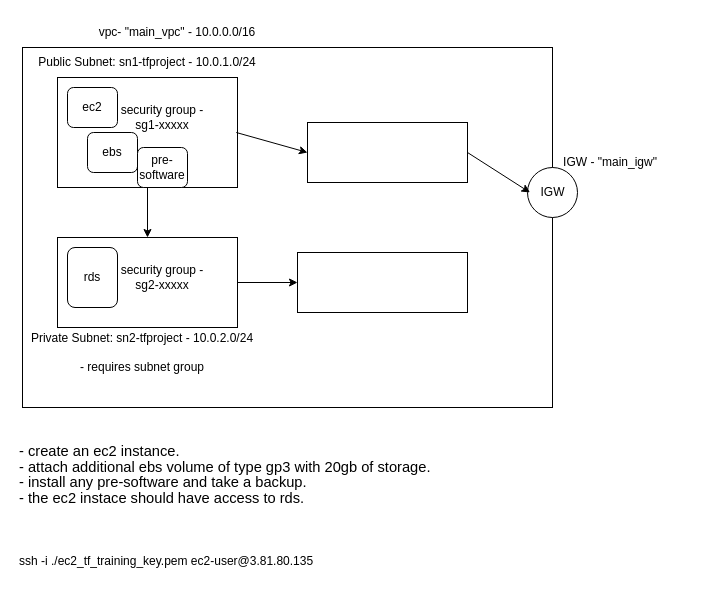
Image size: 707x604. Some labels were removed from this diagram. The shapes that lost their labels are listed below. From the top down, each one's centre as x and y in pixels, then its label:
At [387,152]: "Route Table: rt1-public".
At [382,282]: "Route Table : rt2-private".
